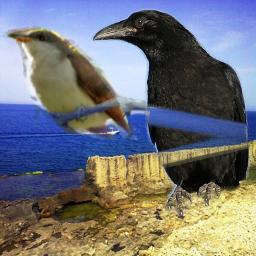Crow: (91, 8, 252, 216)
Cuckoo: (2, 18, 150, 140)
